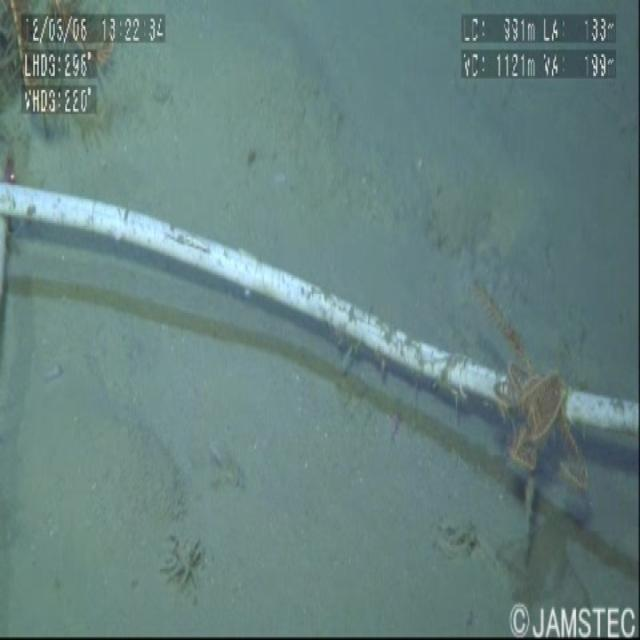Wood: (0, 118, 640, 500)
